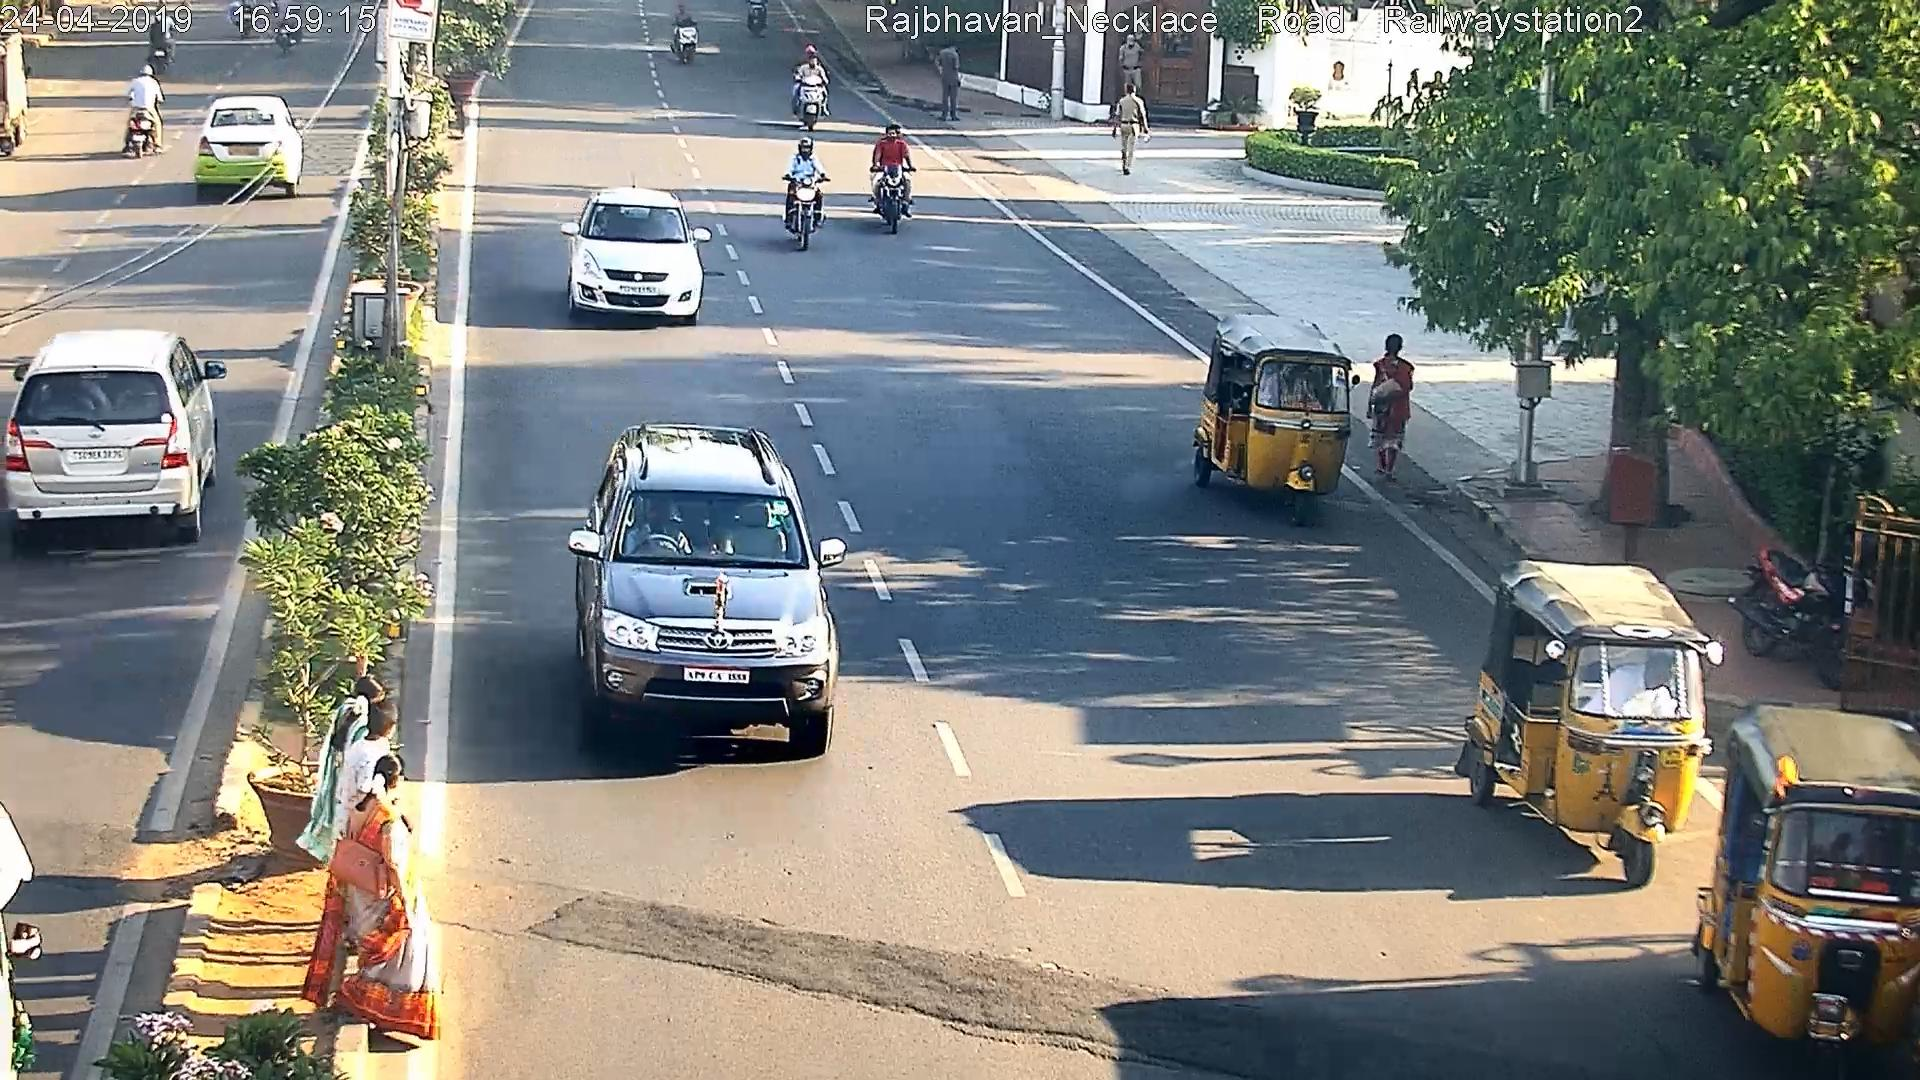2Wheeler: (785, 138, 836, 255), (872, 123, 922, 237), (121, 65, 170, 164), (787, 46, 829, 125), (666, 1, 705, 66)
